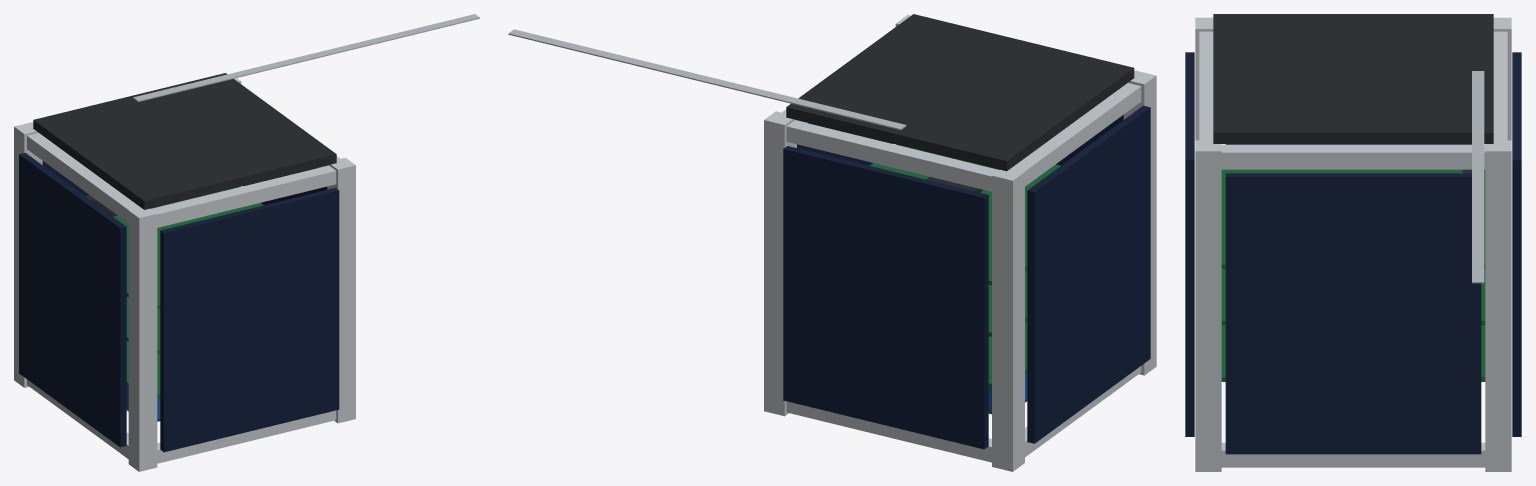
Rendered from cubesat.glb.
3 views of the same model, side by side, from view 1: azimuth 30°, elevation 25°; view 2: azimuth 150°, elevation 25°; view 3: azimuth 270°, elevation 25° (orthographic). The views are drawn at different scales.
Parts seen in each view (by area): view 1: Part_Panel_YM, Part_Antena, Part_Panel_XM, Part_Estructura, Part_Placa_COM; view 2: Part_Panel_YP, Part_Antena, Part_Panel_XM, Part_Estructura, Part_Placa_COM; view 3: Part_Panel_XP, Part_Antena, Part_Estructura, Part_Panel_YM, Part_Panel_YP, Part_Placa_COM, Part_Placa_OBC, Part_Placa_EPS.
Part boxes in pixels (bbox=[...]): Part_Panel_YM: bbox=[160, 188, 339, 452]; Part_Antena: bbox=[33, 14, 479, 209]; Part_Panel_XM: bbox=[19, 152, 126, 447]; Part_Estructura: bbox=[14, 78, 355, 471]; Part_Placa_COM: bbox=[85, 187, 263, 309]; Part_Panel_YP: bbox=[783, 146, 988, 449]; Part_Antena: bbox=[508, 14, 1134, 171]; Part_Panel_XM: bbox=[1027, 105, 1150, 443]; Part_Estructura: bbox=[764, 15, 1156, 471]; Part_Placa_COM: bbox=[870, 145, 1060, 285]; Part_Panel_XP: bbox=[1225, 173, 1481, 454]; Part_Antena: bbox=[1213, 14, 1493, 283]; Part_Estructura: bbox=[1195, 17, 1511, 471]; Part_Panel_YM: bbox=[1185, 52, 1194, 436]; Part_Panel_YP: bbox=[1512, 52, 1521, 436]; Part_Placa_COM: bbox=[1221, 169, 1485, 268]; Part_Placa_OBC: bbox=[1221, 325, 1485, 381]; Part_Placa_EPS: bbox=[1221, 269, 1485, 325].
Bounding box in the file's own units: 0.214 × 0.1183 × 0.108.
